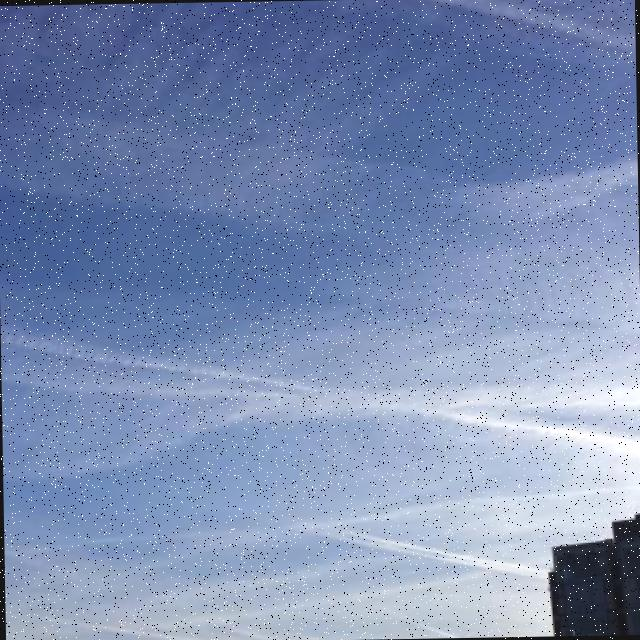Ct: (1, 139, 608, 469)
